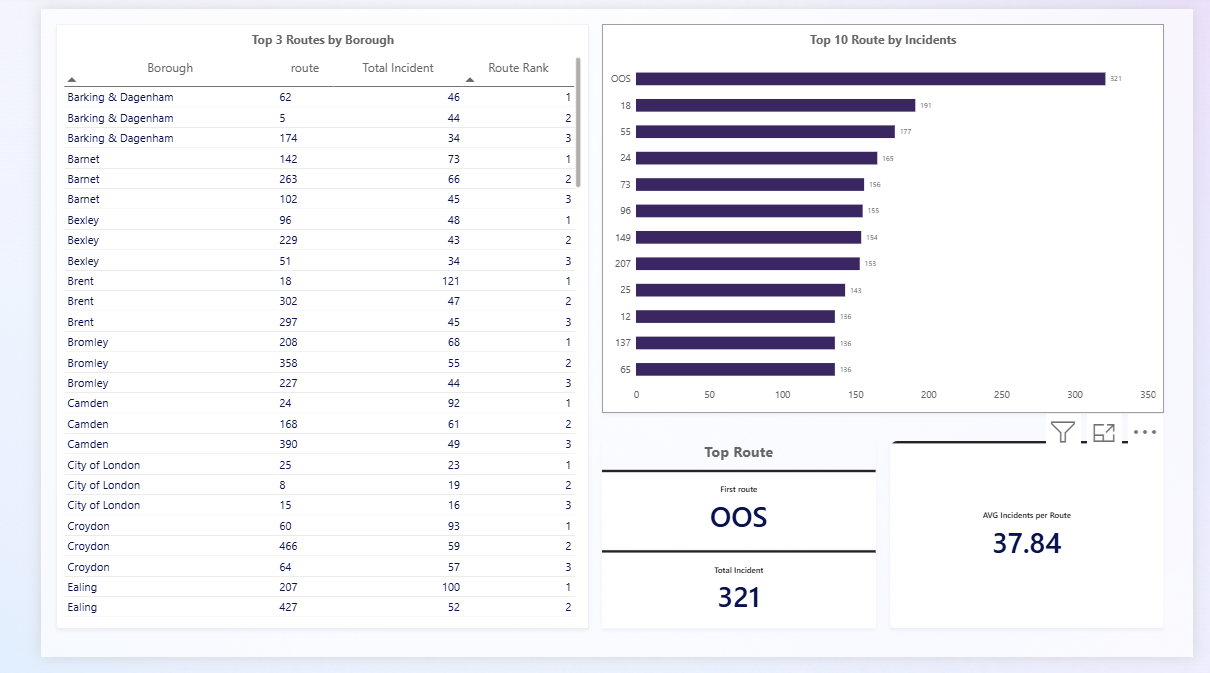

This screenshot's page, from the dashboard's own definition file:
{"tool":"powerbi","page":{"name":"Route Analysis","canvas":[1920,1080],"ordinal":2},"visuals":[{"type":"tableEx","title":"Top 3 Routes by Borough","fields":{"Values":["dim_borough.Borough","dim_route.route","_measure.Total Incident","_measure.Route Rank"]},"box":[24,24,888,1008],"z":0},{"type":"cardVisual","fields":{"Data":["_measure.AVG Incidents per Route"]},"box":[1416,720,456,312],"z":1000},{"type":"barChart","title":"Top 10 Route by Incidents","fields":{"Category":["dim_route.route"],"Y":["_measure.Total Incident"]},"box":[936,24,936,648],"z":2000},{"type":"cardVisual","title":"Top Route","fields":{"Data":["Min(dim_route.route)","_measure.Total Incident"]},"box":[936,720,456,312],"z":3000}]}

Visuals, with their boxes in screenshot pixels (x1, y1, x2, y2), scaled from the page's 1920x1080 canvas onto the 1210x673 screenshot:
"Top 3 Routes by Borough" tableEx: <bbox>15, 15, 575, 643</bbox>
cardVisual - _measure.AVG Incidents per Route: <bbox>892, 449, 1180, 643</bbox>
"Top 10 Route by Incidents" barChart: <bbox>590, 15, 1180, 419</bbox>
"Top Route" cardVisual: <bbox>590, 449, 877, 643</bbox>
